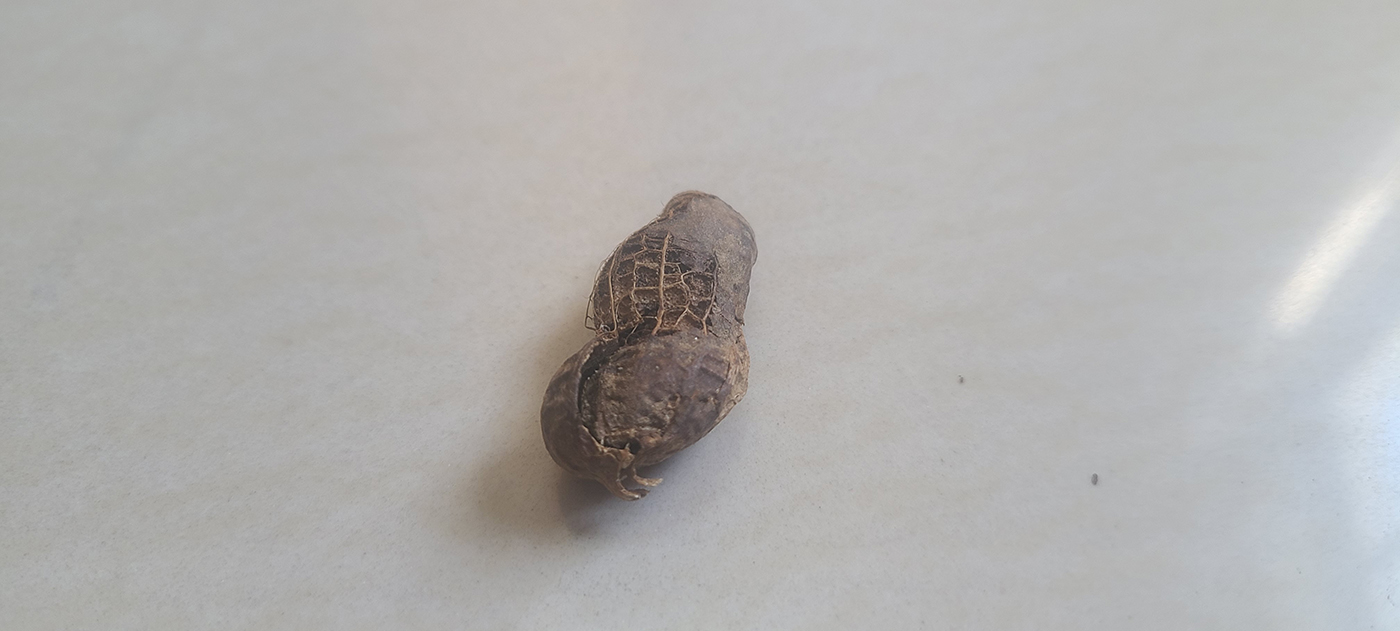l: (539, 190, 758, 502)
